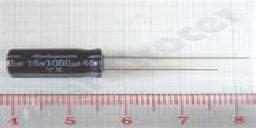Electrolytic-Capacitor: (5, 47, 251, 83)
